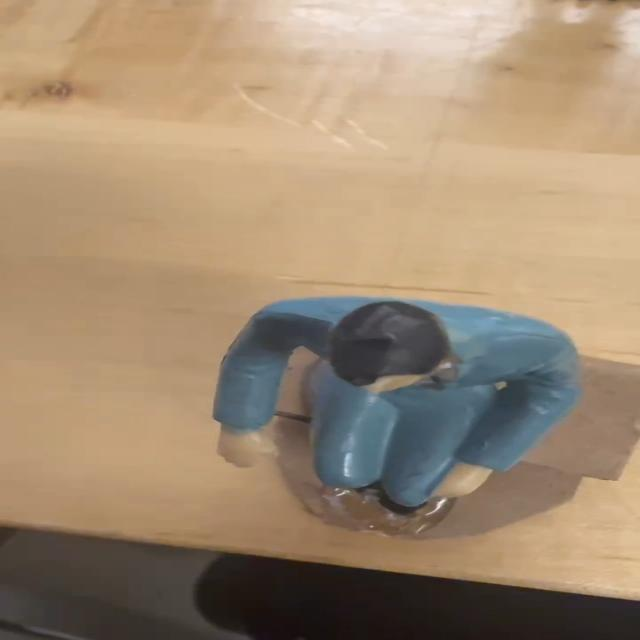Authorized: (208, 290, 584, 539)
